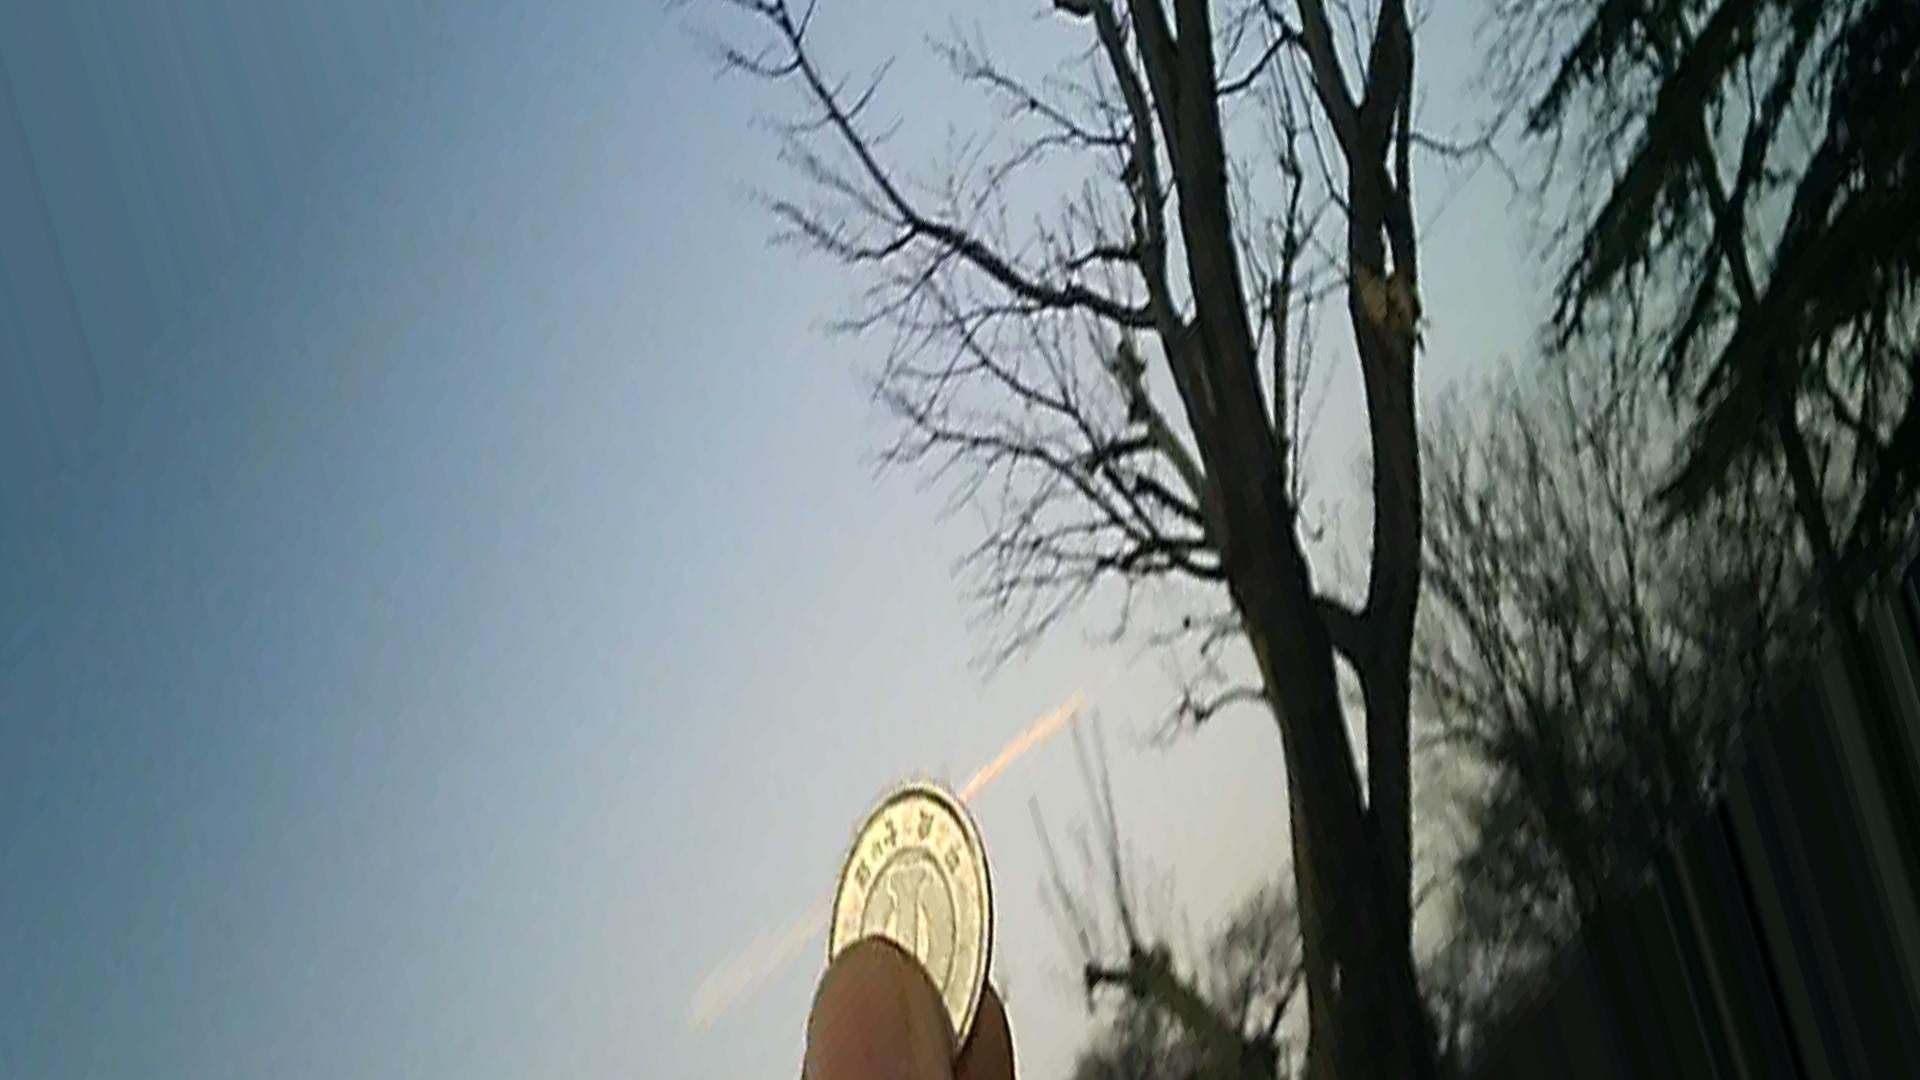1 Yen: (810, 781, 1006, 1058)
